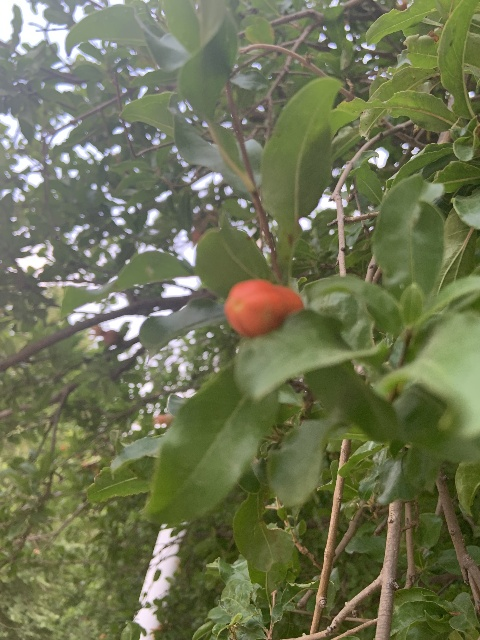bud: (224, 279, 303, 338), (395, 0, 409, 10)
